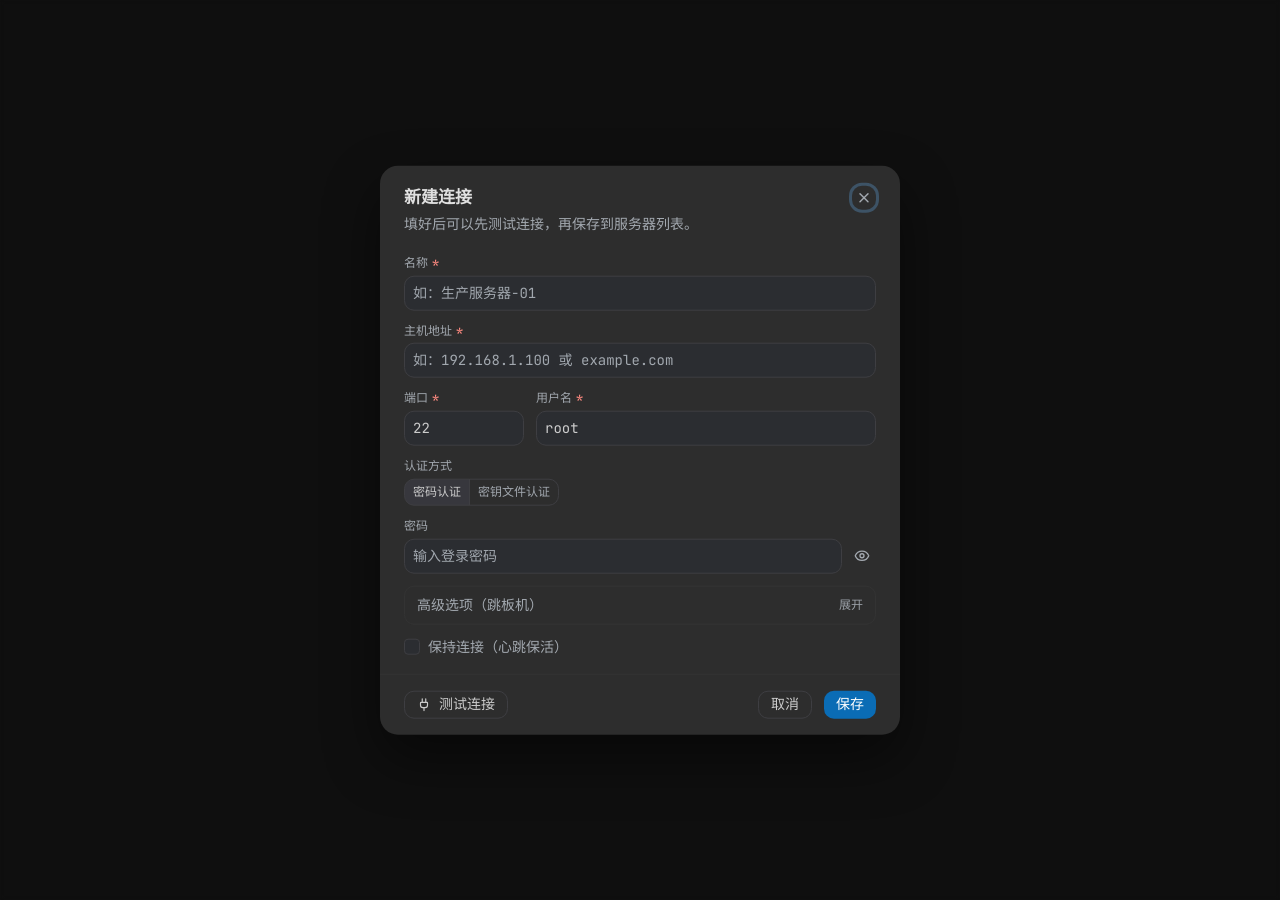
Test: ConnectDialog › 必填没填时不保存，并说清还有几项要改
The width and height of the screenshot is (1280, 900).
What coordinates should you click on to do the following:
click the button "保存"
I would click on:
 (850, 704)
Its box is [824,690,876,718].
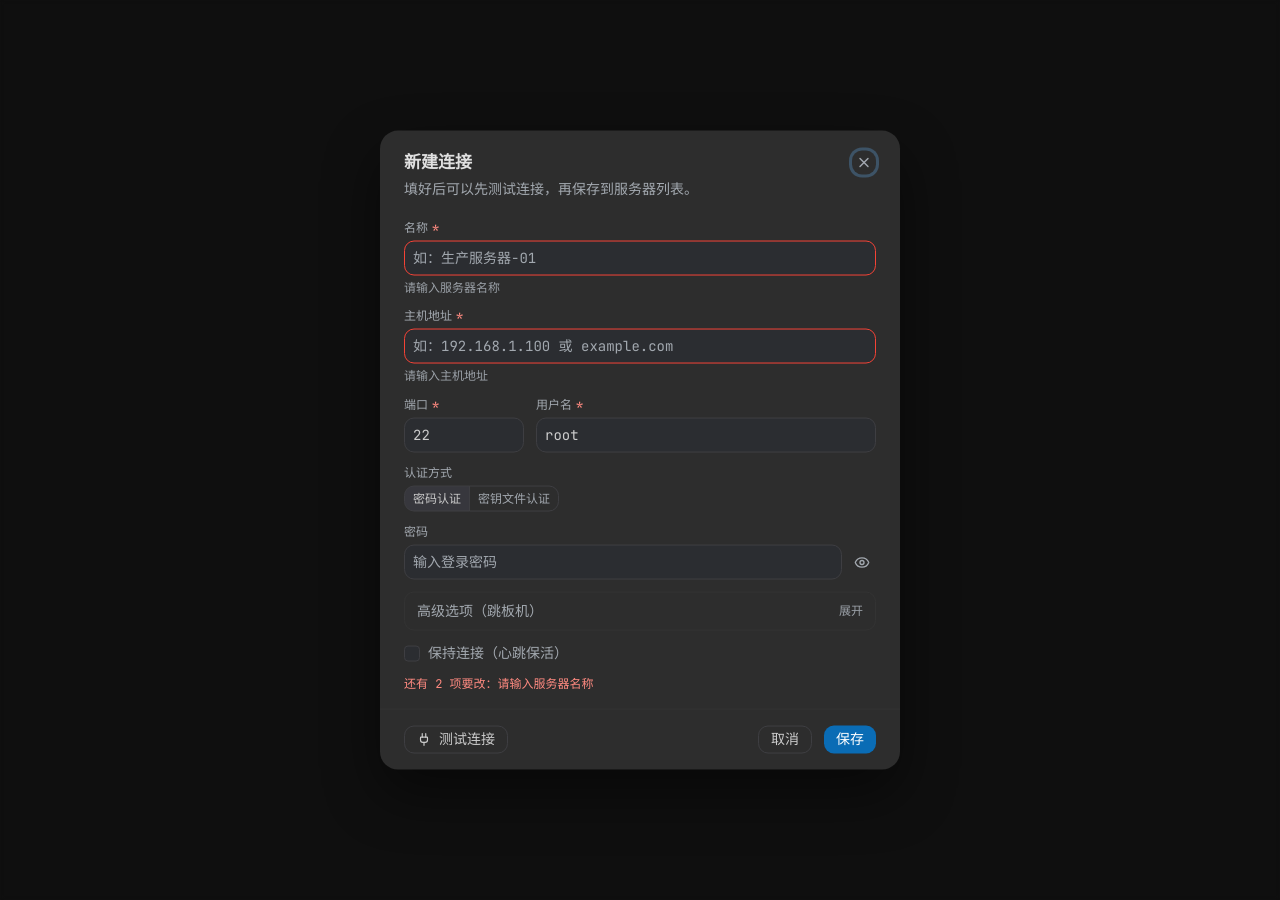
expect the message shows "2 项要改": met, box [404,676,594,692]
